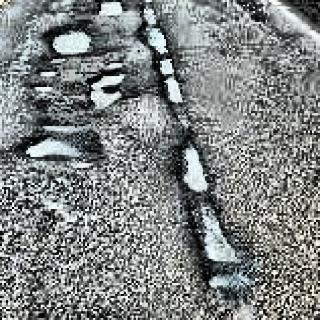pothole: (136, 2, 251, 296), (15, 124, 89, 182), (85, 57, 132, 117), (42, 18, 95, 58), (32, 54, 70, 96), (93, 0, 127, 17)
